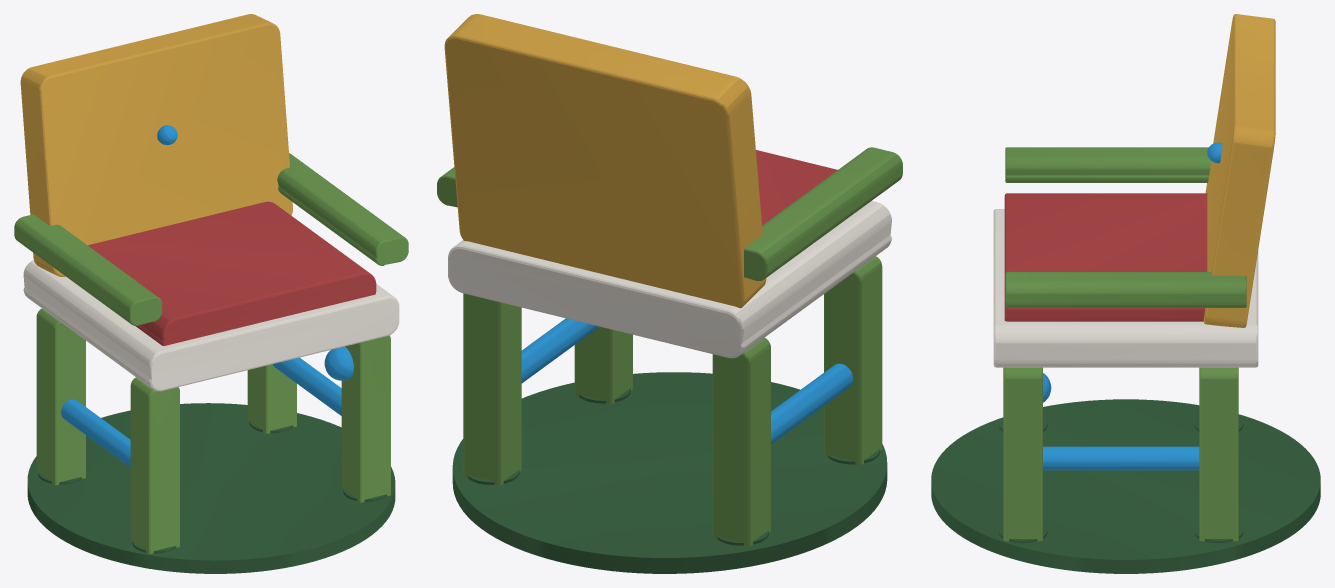
Rendered from 0967_农业科技图鉴_水培生菜.glb.
3 views of the same model, side by side, from view 1: azimuth 30°, elevation 25°; view 2: azimuth 150°, elevation 25°; view 3: azimuth 270°, elevation 25° (orthographic). The views are drawn at different scales.
Visible parts, largest first — view 1: card_0967; view 2: card_0967; view 3: card_0967.
Boxes of the visible parts, box(x1,y1,x2,y2) form: card_0967: box(14, 14, 408, 573); card_0967: box(437, 14, 902, 573); card_0967: box(931, 14, 1320, 573).
Size of the model in its own units: 0.8092 by 1 by 0.8293.
